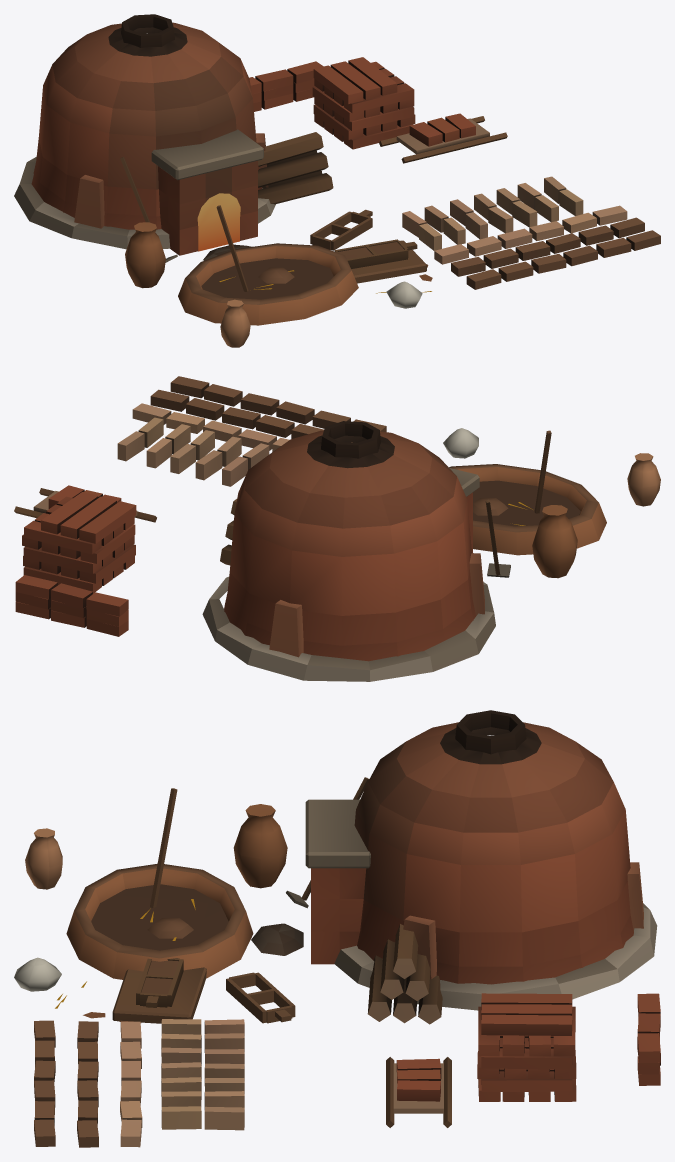
File: briqueterie.glb
3 views of the same model, one above another, from view 1: azimuth 30°, elevation 25°; view 2: azimuth 150°, elevation 25°; view 3: azimuth 270°, elevation 25° (orthographic). The views are drawn at different scales.
Visible parts, largest first — view 1: briqueterie; view 2: briqueterie; view 3: briqueterie.
Part boxes in pixels (x1,y1,x2,y2): briqueterie: (14, 14, 660, 347); briqueterie: (14, 376, 660, 681); briqueterie: (14, 710, 660, 1147).
Bounding box in the file's own units: 1.84 × 0.66 × 1.8.
